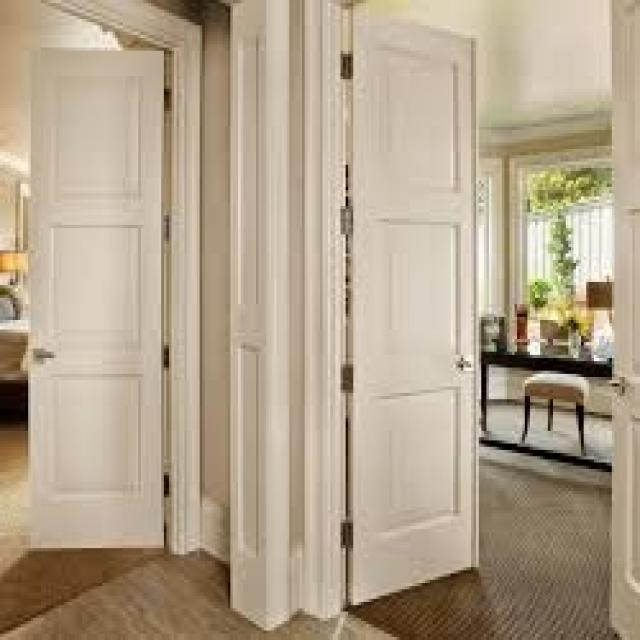Door: (23, 48, 161, 548)
